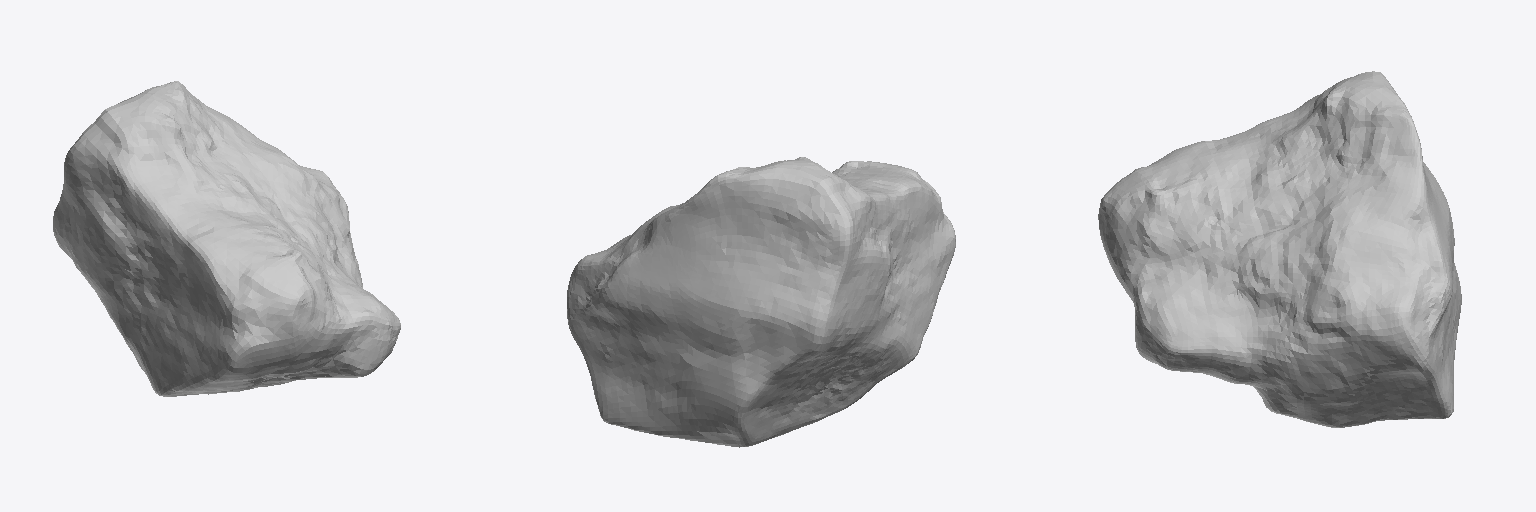
File: a811781db292_a_large_ore_vein_mi.obj
The picture shows the model from 3 angles: view 1: azimuth 30°, elevation 25°; view 2: azimuth 150°, elevation 25°; view 3: azimuth 270°, elevation 25°; orthographic projection.
Visible parts, largest first — view 1: mesh; view 2: mesh; view 3: mesh.
Boxes of the visible parts, x1=… form: mesh: x1=53, y1=81, x2=400, y2=396; mesh: x1=567, y1=157, x2=955, y2=447; mesh: x1=1098, y1=71, x2=1461, y2=427.
Bounding box in the file's own units: 0.8688 × 0.8477 × 0.9994.